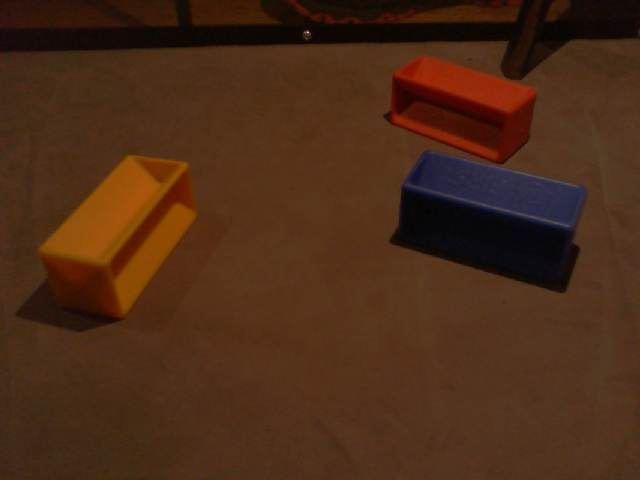BlueSample: (396, 149, 589, 288)
RedSample: (389, 55, 540, 165)
YellowSample: (40, 154, 198, 329)
